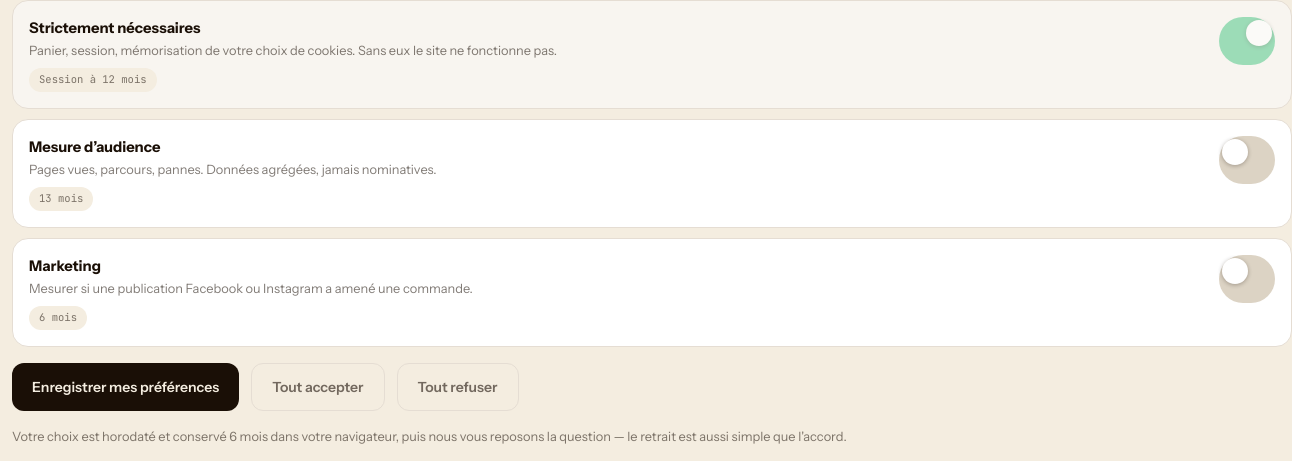
Test: CookiePrefsCenter — centre de préférences conforme CNIL › enregistrer écrit le consentement HORODATÉ dans la clé partagée + affiche la date
The width and height of the screenshot is (1292, 461).
Click the switch named "Mesure d’audience" at point(1247, 160), box [1219,136,1275,184]
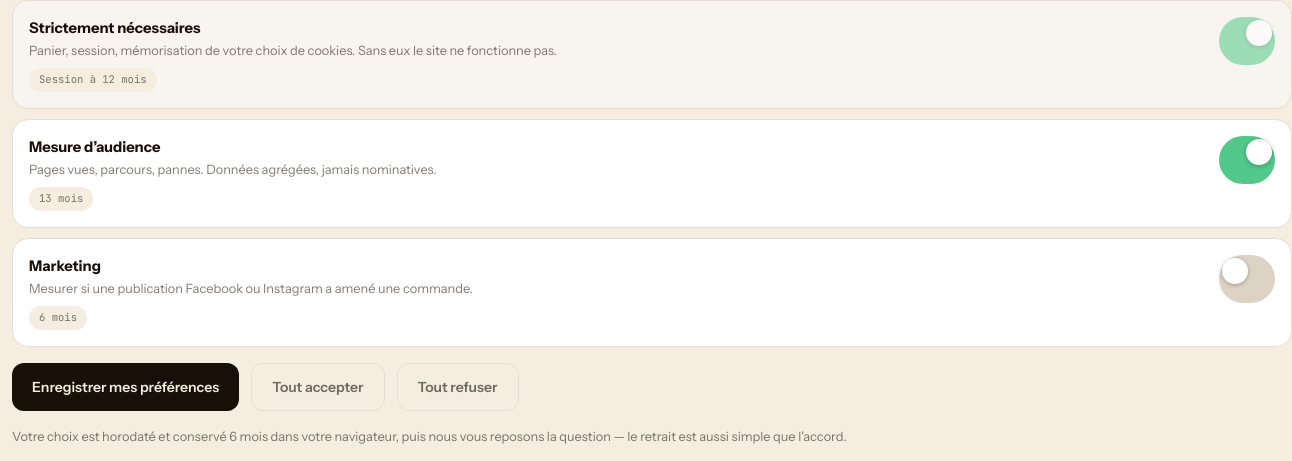
Click the button "Enregistrer mes préférences" at point(126, 387), box [12,363,239,411]
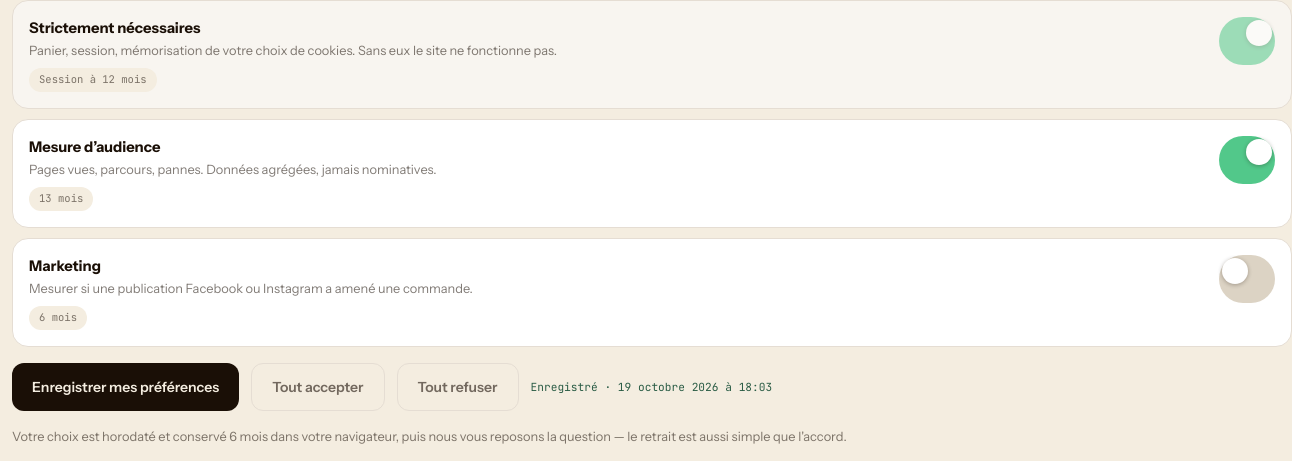
Expected: the text "Enregistré · 19 octobre 2026 à 18:03" is shown, [530,379,772,396]
